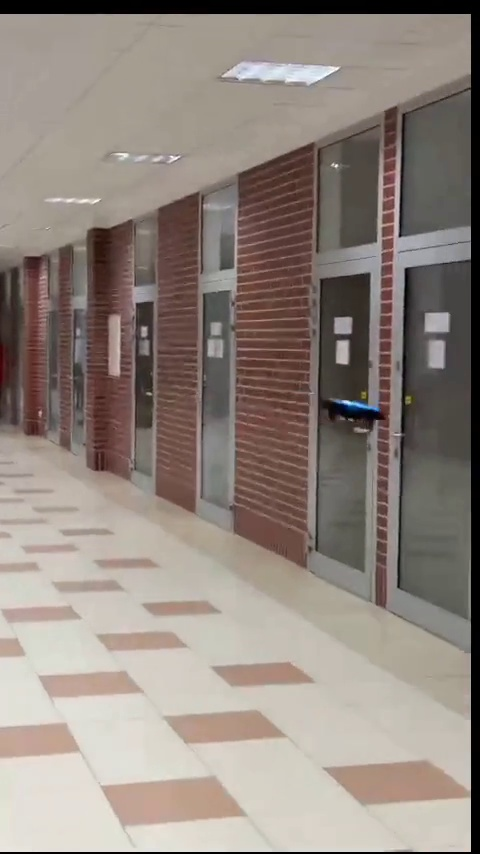drone: (319, 396, 379, 429)
